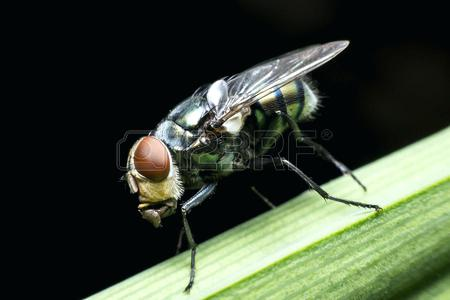house fly: (106, 39, 388, 296)
